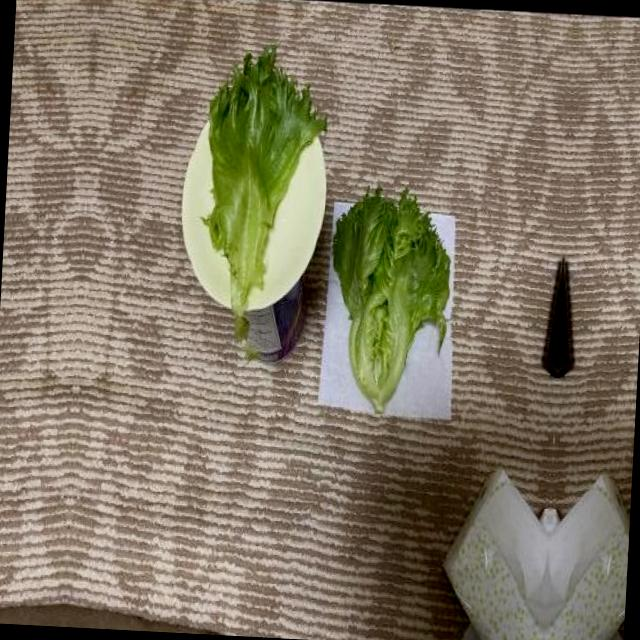healthy: (191, 35, 335, 338), (317, 178, 465, 419)
